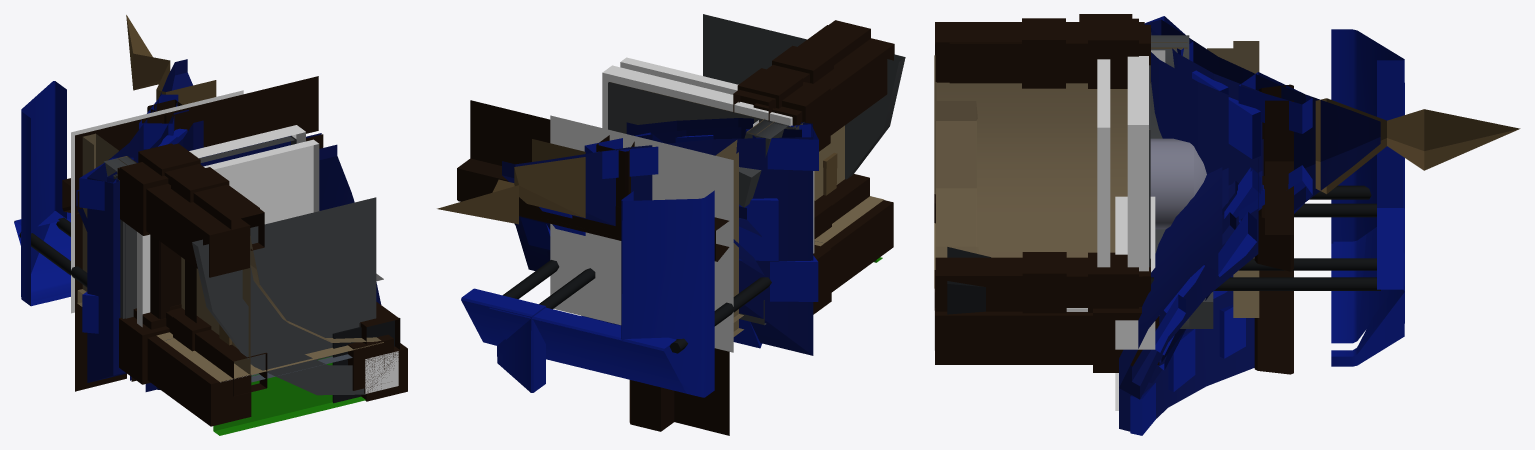
Rendered from House.FBX.
The picture shows the model from 3 angles, left to right: view 1: azimuth 30°, elevation 25°; view 2: azimuth 150°, elevation 25°; view 3: azimuth 270°, elevation 25°; orthographic projection. The views are drawn at different scales.
Visible parts, largest first — view 1: B16, S1, C1, T7, B27, B240, B59, B17, B48, B25, C3, T1 (+11 smaller); view 2: S1, C1, T15, T7, C3, B16, B27, C7, B59, B17, B3, T1 (+8 smaller); view 3: B1, T7, C1, B17, S1, C7, T1, B16, B15, C3, B240, T3 (+3 smaller).
Part boxes in pixels (bbox=[...]): B16: bbox=[138, 143, 376, 395]; S1: bbox=[79, 15, 290, 387]; C1: bbox=[21, 81, 383, 396]; T7: bbox=[75, 76, 398, 393]; B27: bbox=[117, 136, 294, 277]; B240: bbox=[137, 139, 319, 327]; B59: bbox=[119, 317, 251, 426]; B17: bbox=[115, 167, 399, 351]; B48: bbox=[166, 338, 365, 435]; B25: bbox=[113, 175, 249, 373]; C3: bbox=[14, 211, 87, 306]; T1: bbox=[107, 99, 267, 395]; S1: bbox=[437, 122, 869, 355]; C1: bbox=[490, 119, 869, 397]; T15: bbox=[550, 115, 733, 352]; T7: bbox=[457, 100, 729, 435]; C3: bbox=[489, 260, 771, 393]; B16: bbox=[703, 14, 905, 179]; B27: bbox=[753, 38, 894, 151]; C7: bbox=[461, 268, 595, 392]; B59: bbox=[813, 200, 893, 314]; B17: bbox=[608, 20, 870, 239]; B3: bbox=[608, 82, 773, 325]; T1: bbox=[596, 118, 801, 207]; B1: bbox=[936, 18, 1212, 328]; T7: bbox=[934, 158, 1293, 435]; C1: bbox=[934, 29, 1404, 342]; B17: bbox=[935, 18, 1151, 313]; S1: bbox=[1144, 16, 1520, 370]; C7: bbox=[935, 252, 1404, 372]; T1: bbox=[935, 28, 1293, 223]; B16: bbox=[949, 25, 1150, 304]; B15: bbox=[1127, 56, 1148, 271]; C3: bbox=[1151, 185, 1393, 343]; B240: bbox=[1097, 59, 1110, 267]; T3: bbox=[934, 168, 1293, 287].
Size of the model in its own units: 69.25 by 64.69 by 109.
